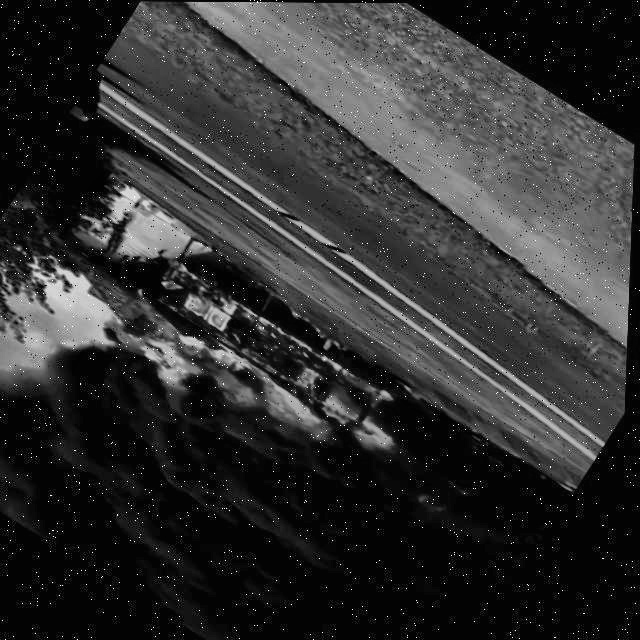Fire: (81, 235, 436, 521)
Smoke: (0, 297, 525, 640)
